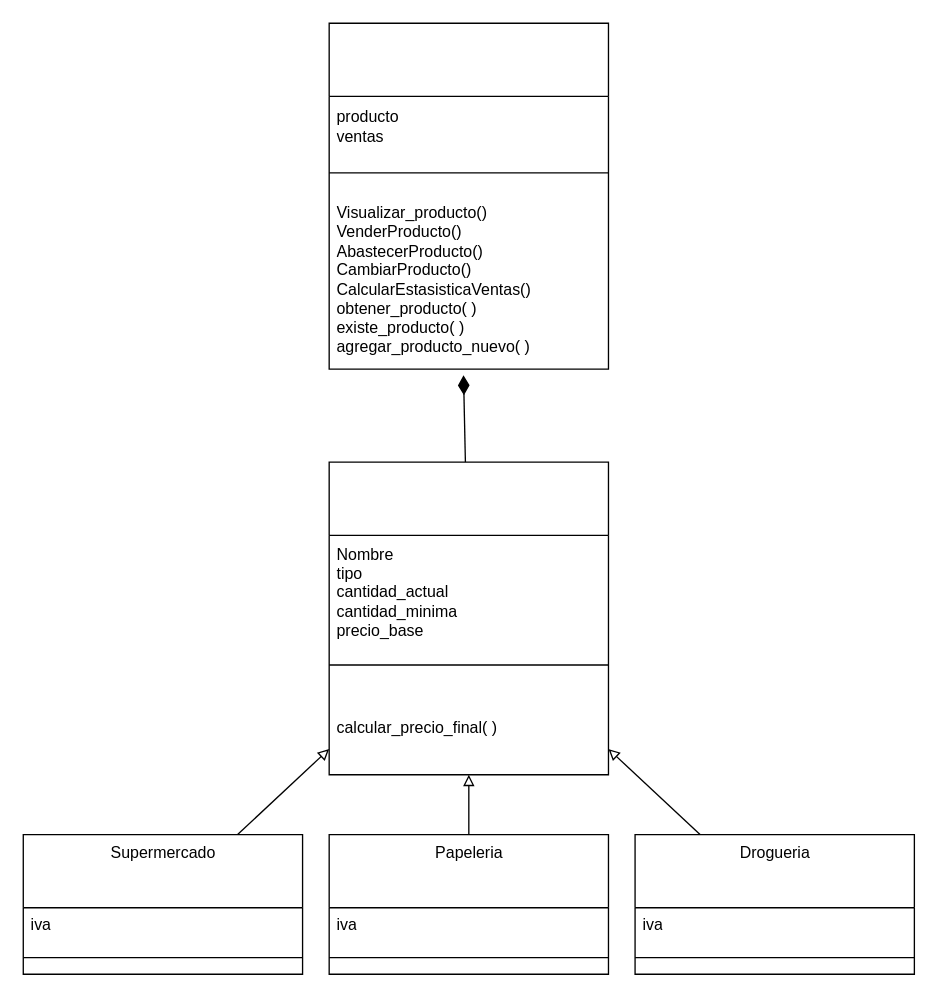
The diagram is 938 pixels wide and 998 high, and some of its shapes have lost their labels. The box of each missing label's shape, as (x1, y1, x2, y2) in pixels:
Producto: (328, 461, 608, 775)
Tienda: (328, 22, 608, 369)
